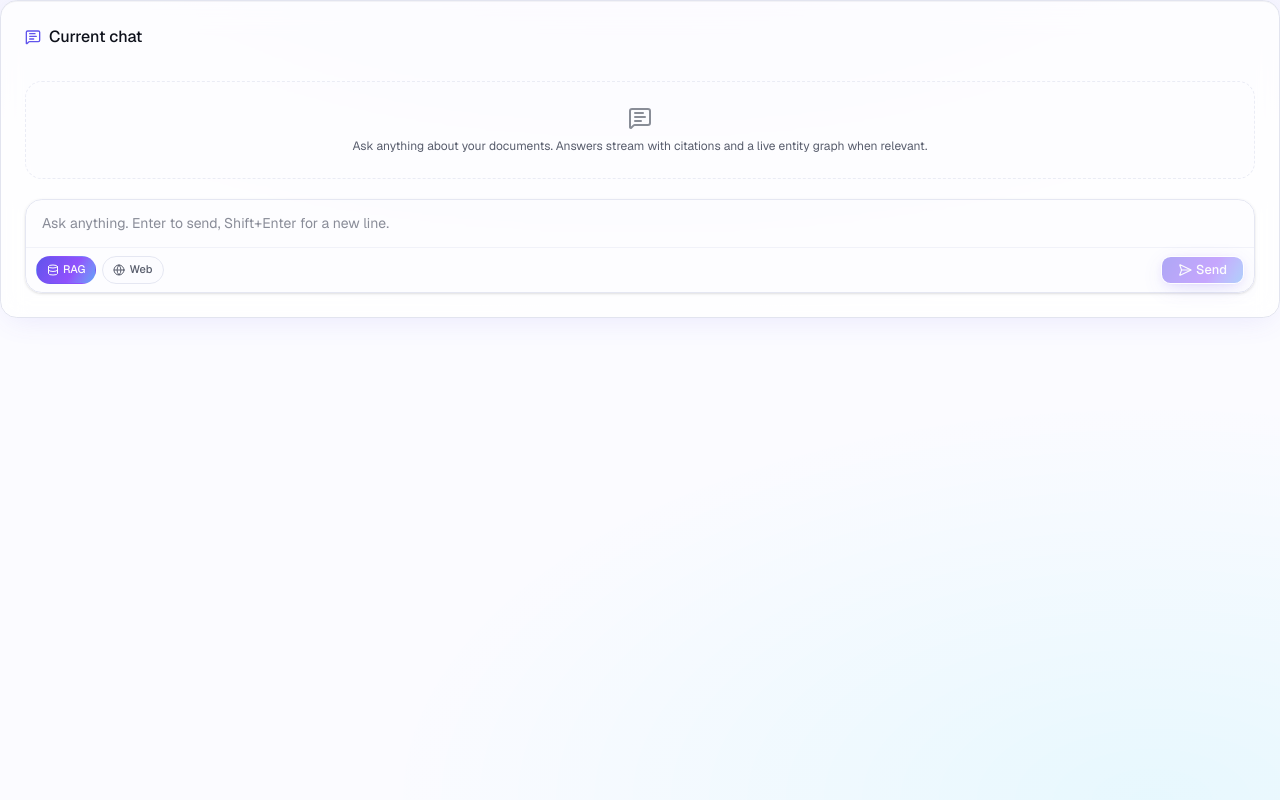
Test case: <ChatPanel /> › shows a 'no context' badge when used_context is false
The width and height of the screenshot is (1280, 800).
Step 1. Type "anything" into the text box named "question" → (640, 224), box [26,200,1254,247]
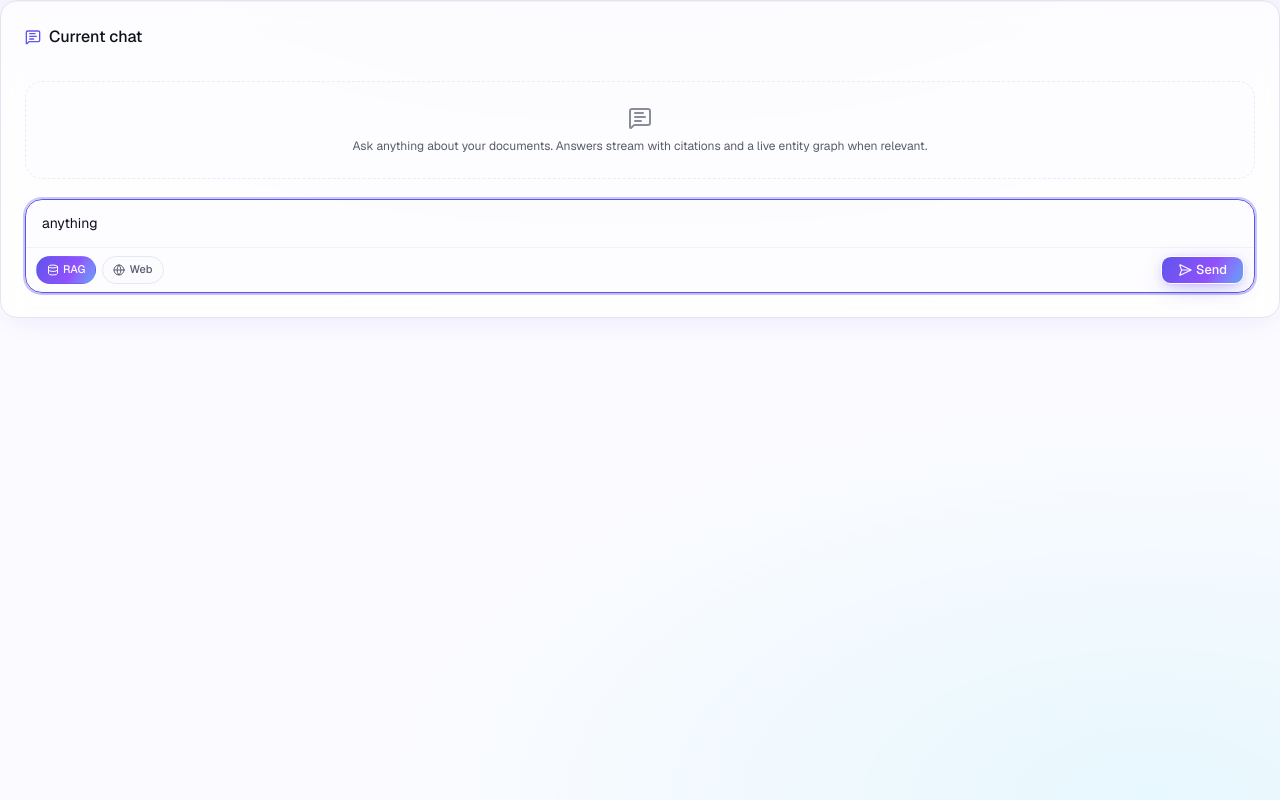
Step 2. Click the button "Send" → click(1202, 270), box [1161,256,1244,284]
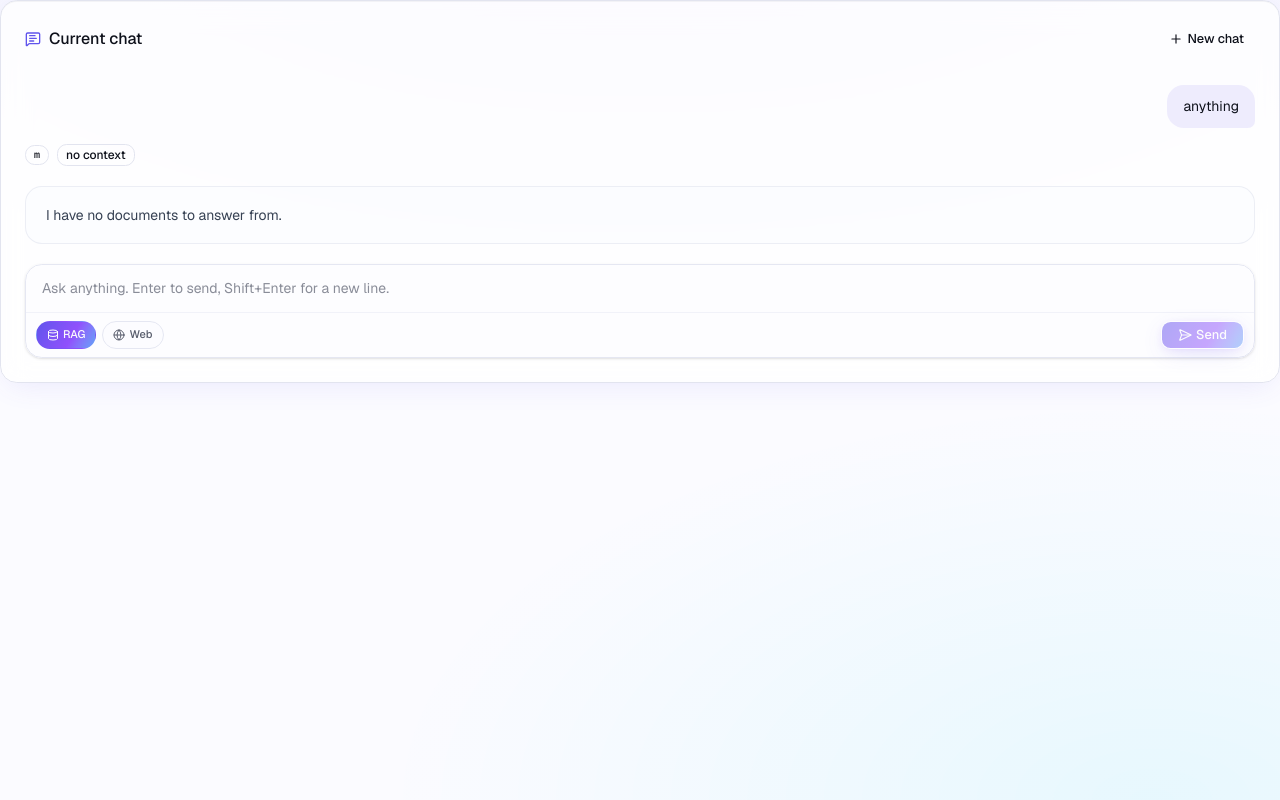
Expected: the element with test id "chat-answer" is shown, [25,136,1255,244]
Expected: the text "no context" is shown, [57,144,135,166]
